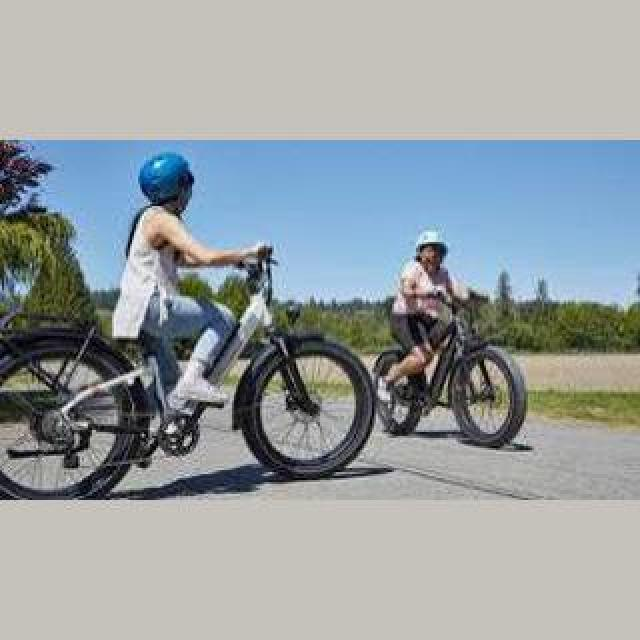MC-Bike: (112, 154, 270, 436), (376, 228, 496, 422)
Person: (2, 246, 380, 494), (368, 298, 530, 444)
